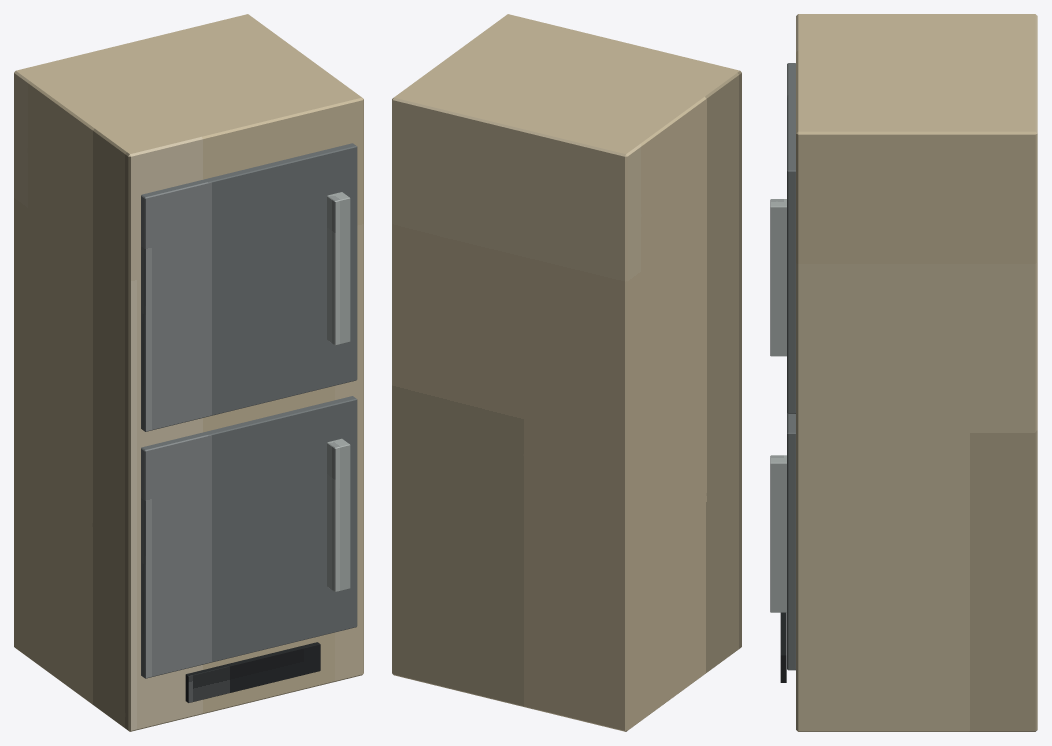
The model's file is normal_kitchen_fridge.glb.
3 views of the same model, side by side, from view 1: azimuth 30°, elevation 25°; view 2: azimuth 150°, elevation 25°; view 3: azimuth 270°, elevation 25° (orthographic). The views are drawn at different scales.
Visible parts, largest first — view 1: FridgeBody, UpperDoor, LowerDoor, FridgeVent, FridgeHandle_1.4, FridgeHandle_0.58; view 2: FridgeBody; view 3: FridgeBody, UpperDoor, FridgeHandle_0.58, FridgeHandle_1.4, LowerDoor, FridgeVent.
Boxes of the visible parts, left/top/right/bottom form: FridgeBody: left=14, top=14, right=363, bottom=731; UpperDoor: left=141, top=143, right=357, bottom=431; LowerDoor: left=141, top=396, right=357, bottom=678; FridgeVent: left=185, top=642, right=320, bottom=702; FridgeHandle_1.4: left=327, top=192, right=350, bottom=345; FridgeHandle_0.58: left=327, top=438, right=350, bottom=592; FridgeBody: left=392, top=14, right=741, bottom=731; FridgeBody: left=796, top=14, right=1037, bottom=731; UpperDoor: left=787, top=63, right=795, bottom=413; FridgeHandle_0.58: left=770, top=455, right=786, bottom=612; FridgeHandle_1.4: left=770, top=199, right=786, bottom=356; LowerDoor: left=787, top=413, right=795, bottom=670; FridgeVent: left=780, top=612, right=786, bottom=682.
Size of the model in its own units: 0.82 by 1.92 by 0.7745.
Materials: 1 (1 with a texture image).
